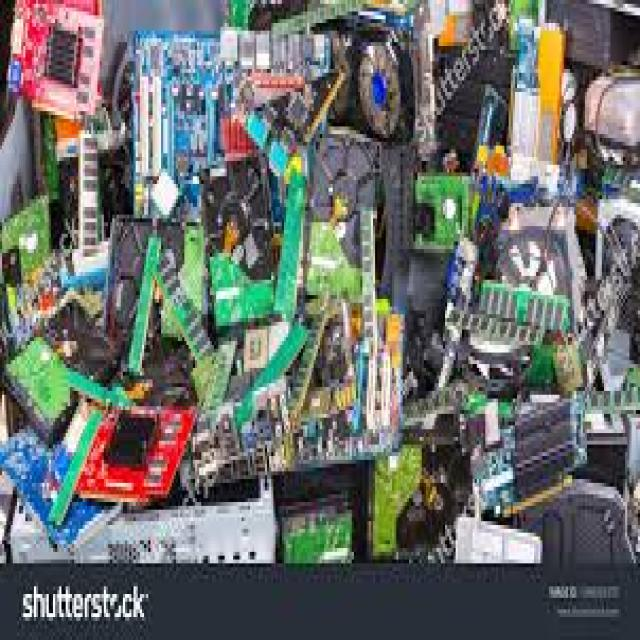Hazard: (4, 16, 640, 564)
